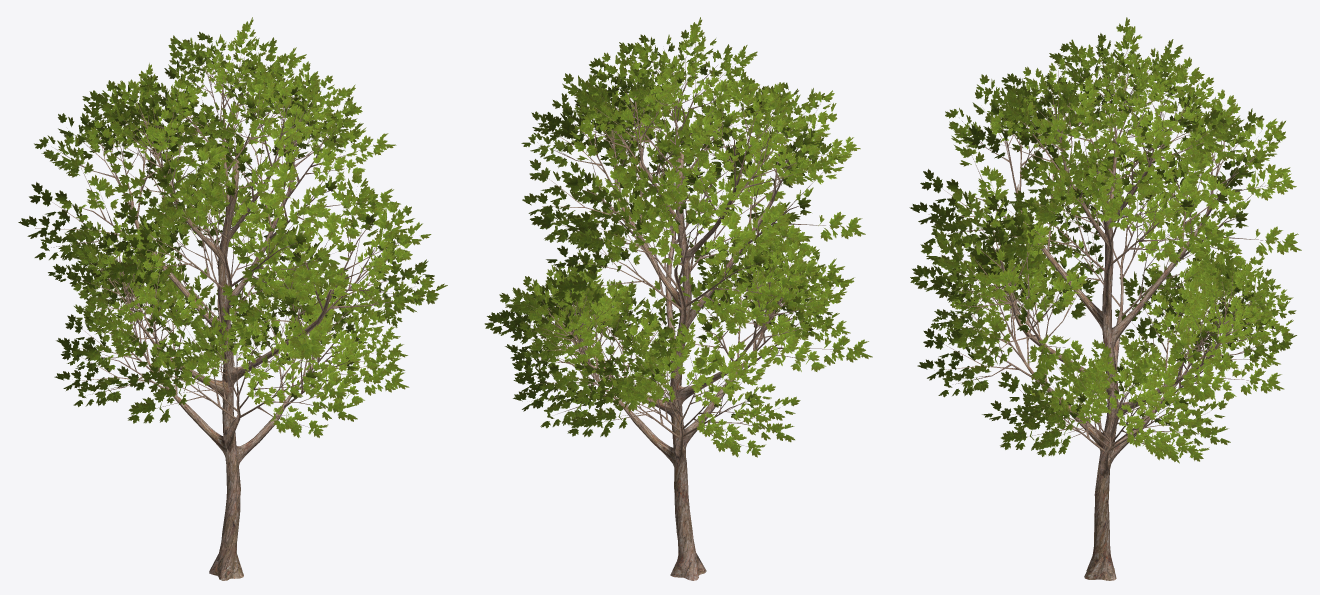
Rendered from maple4.obj.
The picture shows the model from 3 angles, left to right: view 1: azimuth 30°, elevation 25°; view 2: azimuth 150°, elevation 25°; view 3: azimuth 270°, elevation 25°; orthographic projection.
Parts seen in each view (by area): view 1: leaf maple, bark02; view 2: leaf maple, bark02; view 3: leaf maple, bark02.
Part boxes in pixels (x1=…): leaf maple: x1=18, y1=17, x2=447, y2=437; bark02: x1=35, y1=40, x2=425, y2=580; leaf maple: x1=484, y1=17, x2=872, y2=457; bark02: x1=528, y1=42, x2=853, y2=580; leaf maple: x1=909, y1=17, x2=1301, y2=463; bark02: x1=928, y1=46, x2=1280, y2=580.
Size of the model in its own units: 548 by 814 by 555.
2 materials, 2 textured.
